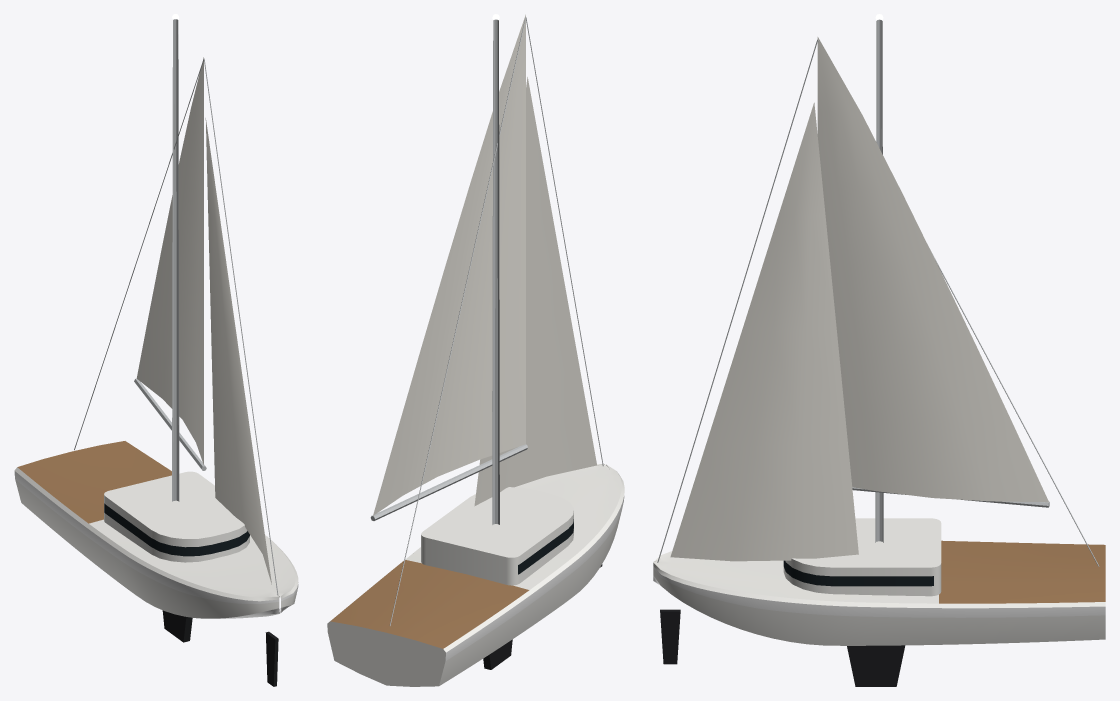
Rendered from boat_sail.gltf.
The picture shows the model from 3 angles, left to right: view 1: azimuth 30°, elevation 25°; view 2: azimuth 150°, elevation 25°; view 3: azimuth 270°, elevation 25°; orthographic projection. The views are drawn at different scales.
Parts seen in each view (by area): view 1: boat_sail_body; view 2: boat_sail_body; view 3: boat_sail_body.
Part boxes in pixels (x1,y1,x2,y2): boat_sail_body: [14, 14, 298, 686]; boat_sail_body: [327, 14, 624, 686]; boat_sail_body: [653, 14, 1105, 686].
Size of the model in its own units: 2.3 by 10.8 by 6.6.
